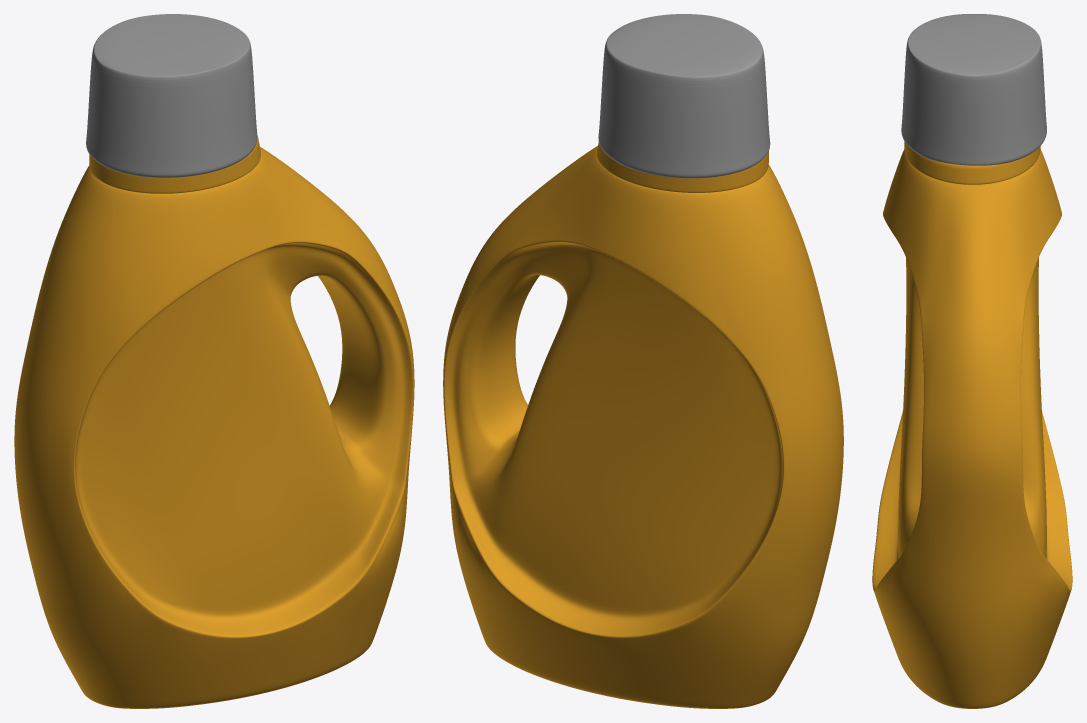
File: Bottle_Cleaning.fbx
3 views of the same model, side by side, from view 1: azimuth 30°, elevation 25°; view 2: azimuth 150°, elevation 25°; view 3: azimuth 270°, elevation 25° (orthographic). The views are drawn at different scales.
Visible parts, largest first — view 1: Circle; view 2: Circle; view 3: Circle.
Boxes of the visible parts, bbox=[...] form: Circle: bbox=[14, 14, 414, 708]; Circle: bbox=[443, 14, 843, 708]; Circle: bbox=[872, 14, 1072, 708].
Bounding box in the file's own units: 22.1 × 35.87 × 11.16.
